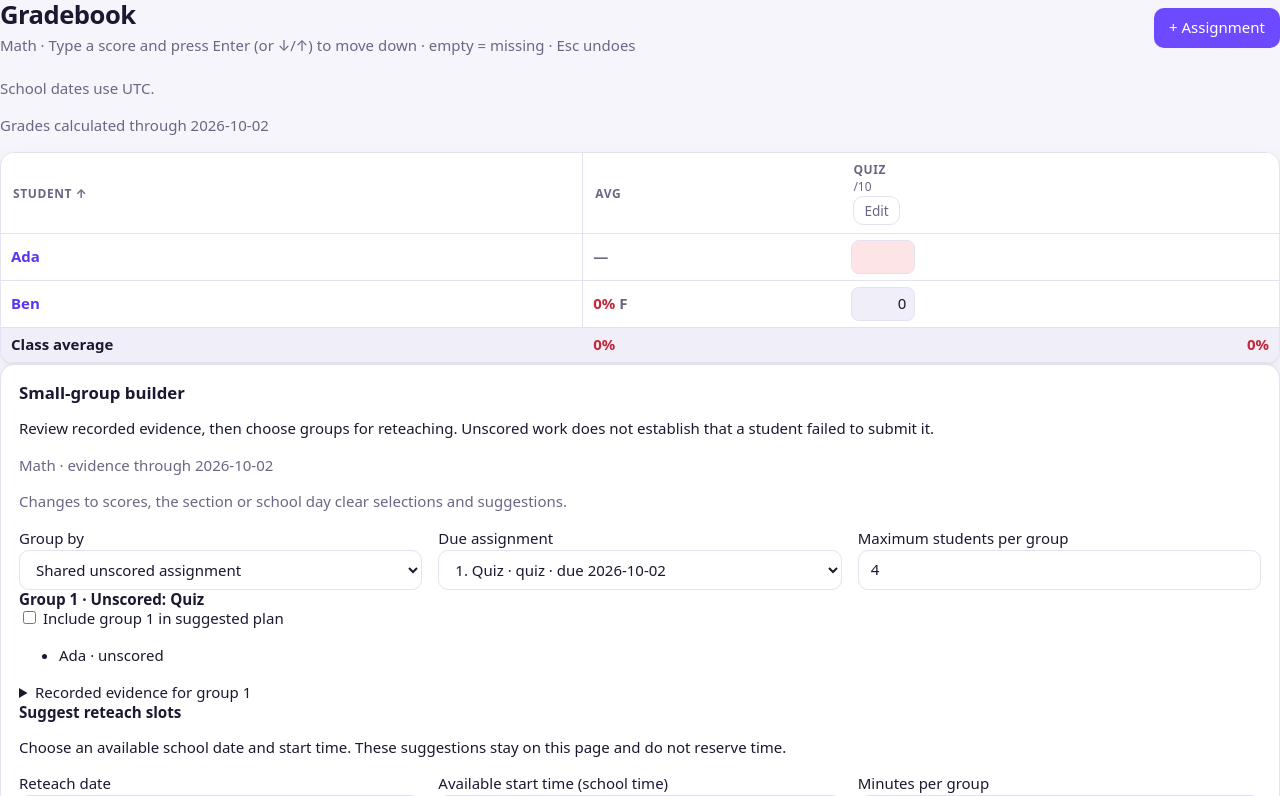
Test: recomputes current evidence after a successful due-date metadata edit
Click the checkbox labelled "Include group 1 in suggested plan" at point(30, 618), box [23,611,36,624]
(page scrolled)
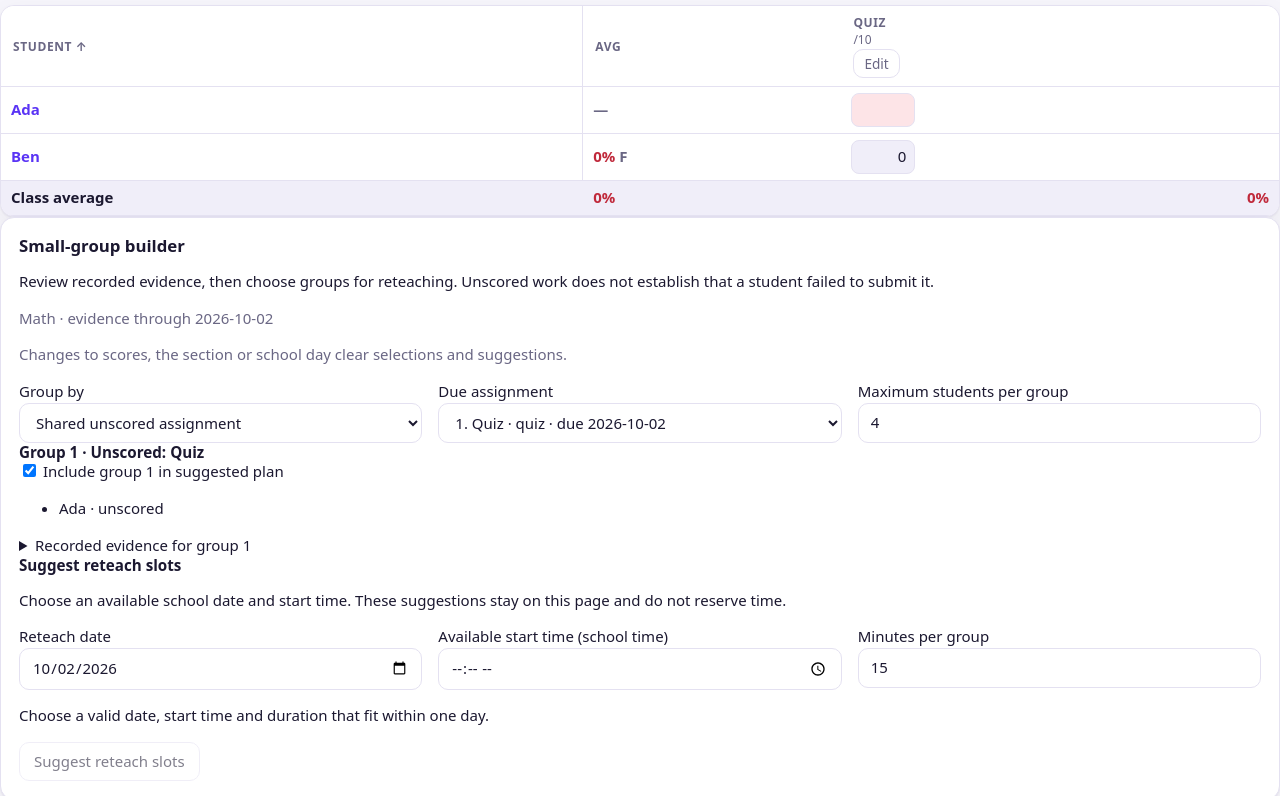
Type "09:00" into the time field labelled "Available start time (school time)" at point(640, 669), box [438,648,842,690]
(page scrolled)
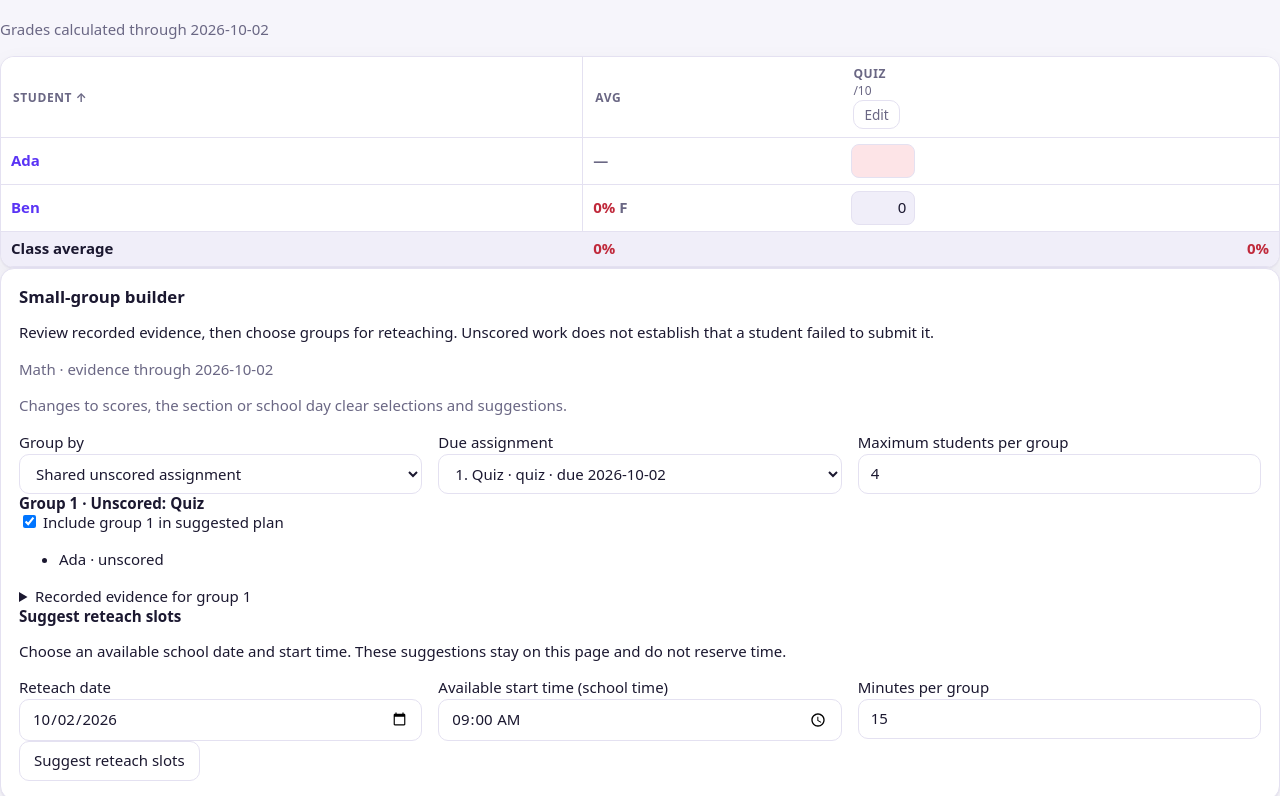
Click the button "Suggest reteach slots" at point(109, 761), box [19,741,200,781]
(page scrolled)
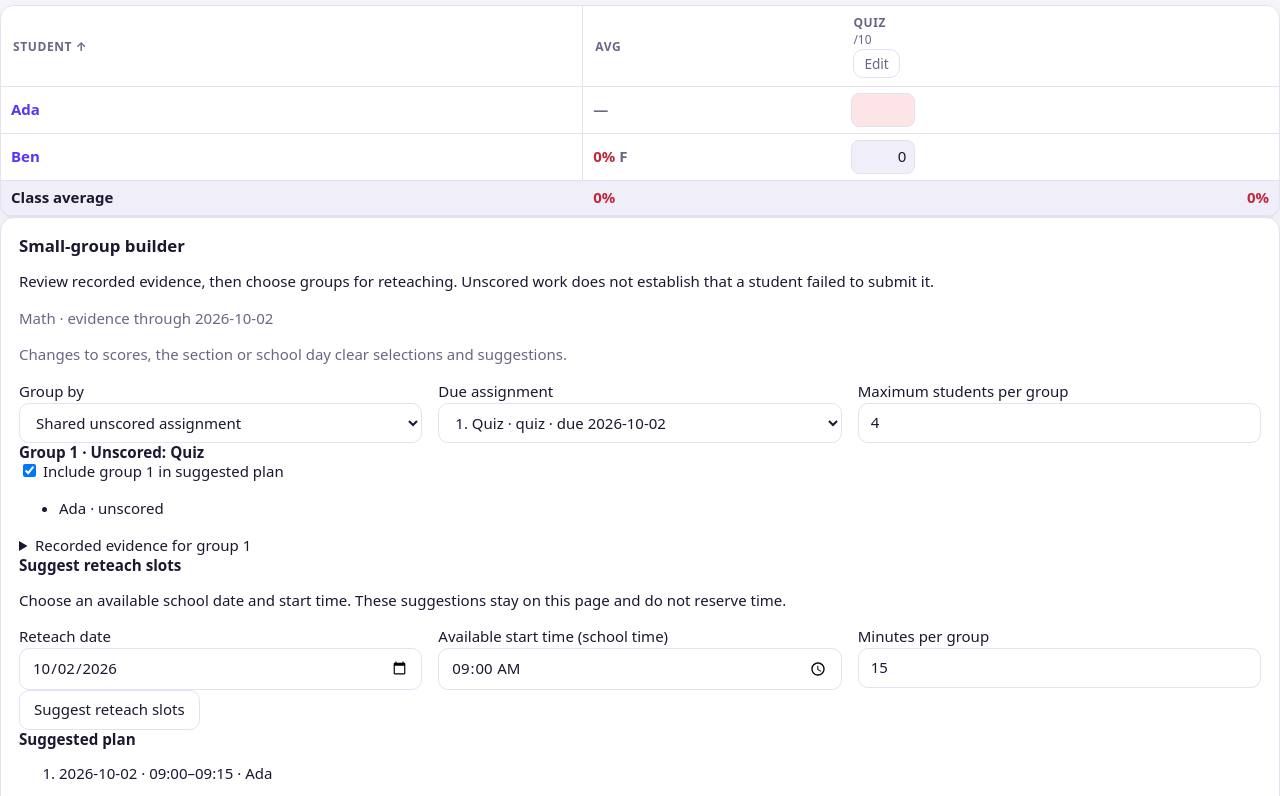
Click the button with aria-label "Edit Quiz" at point(877, 64), box [853,49,900,78]
(page scrolled)
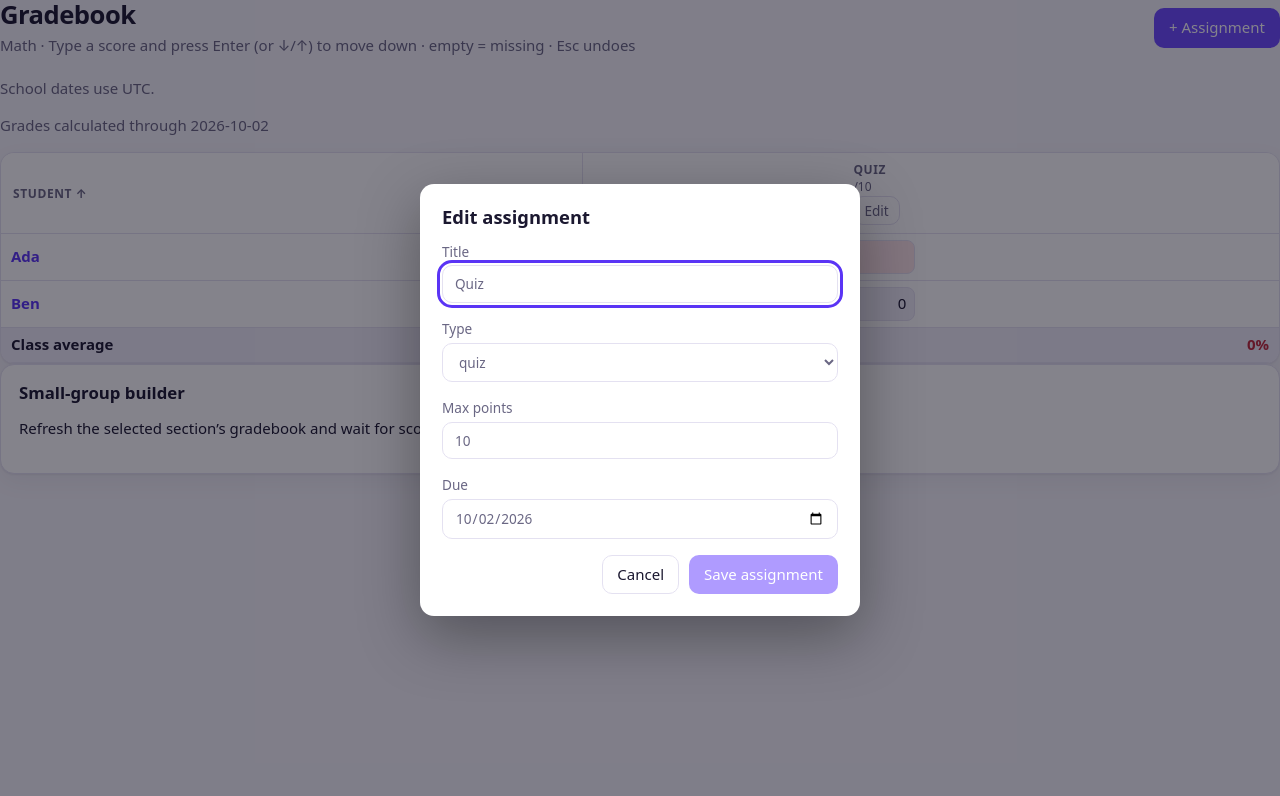
Type "2026-10-03" into the date field labelled "Due" at point(640, 519), box [442,499,838,539]
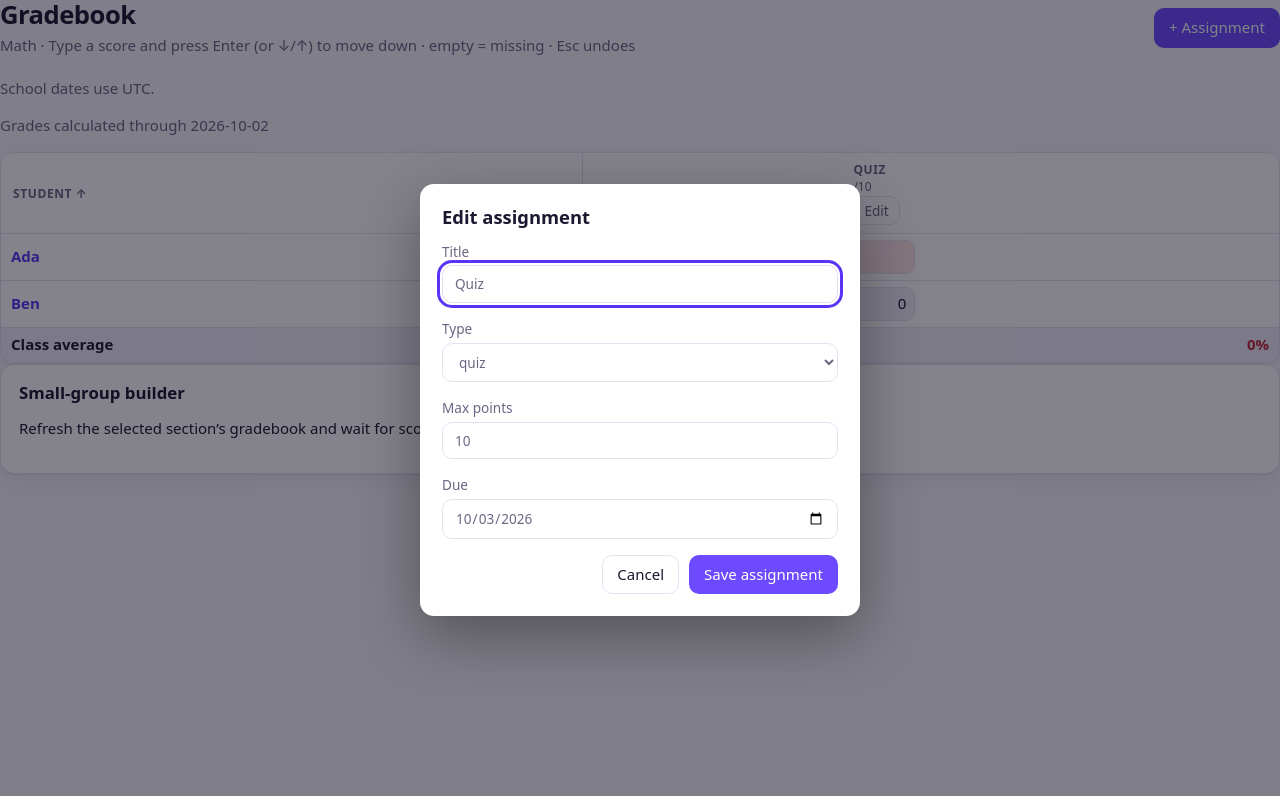
Click the button "Save assignment" at point(764, 574), box [689,555,838,594]
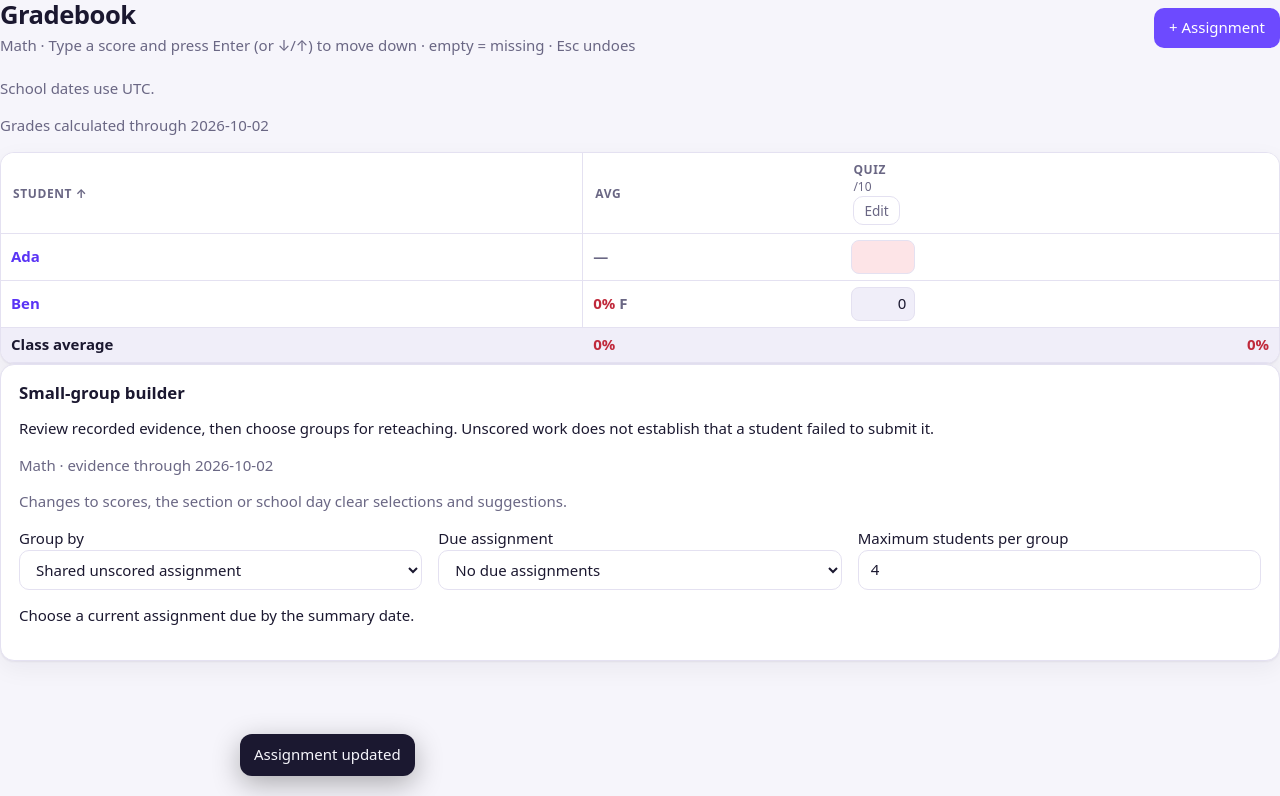
Result: the dialog is gone
